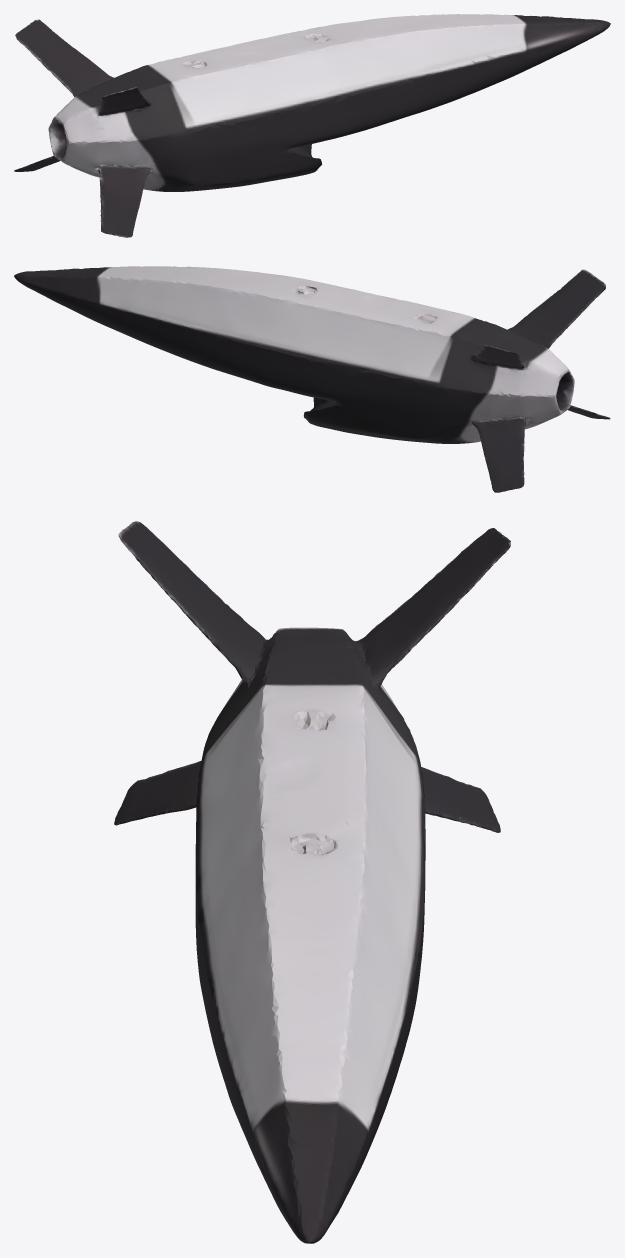
Rendered from YJ_18_Anti_Ship_Missile_AI_Rodin.glb.
The picture shows the model from 3 angles, top to bottom: view 1: azimuth 30°, elevation 25°; view 2: azimuth 150°, elevation 25°; view 3: azimuth 270°, elevation 25°; orthographic projection. The views are drawn at different scales.
Visible parts, largest first — view 1: YJ_18_Anti_Ship_Missile; view 2: YJ_18_Anti_Ship_Missile; view 3: YJ_18_Anti_Ship_Missile.
Boxes of the visible parts, box(x1,y1,x2,y2) form: YJ_18_Anti_Ship_Missile: box(14, 14, 610, 237); YJ_18_Anti_Ship_Missile: box(14, 266, 610, 492); YJ_18_Anti_Ship_Missile: box(114, 521, 510, 1243).
Bounding box in the file's own units: 1.9 × 0.5456 × 0.5922.
1 material, 1 textured.
